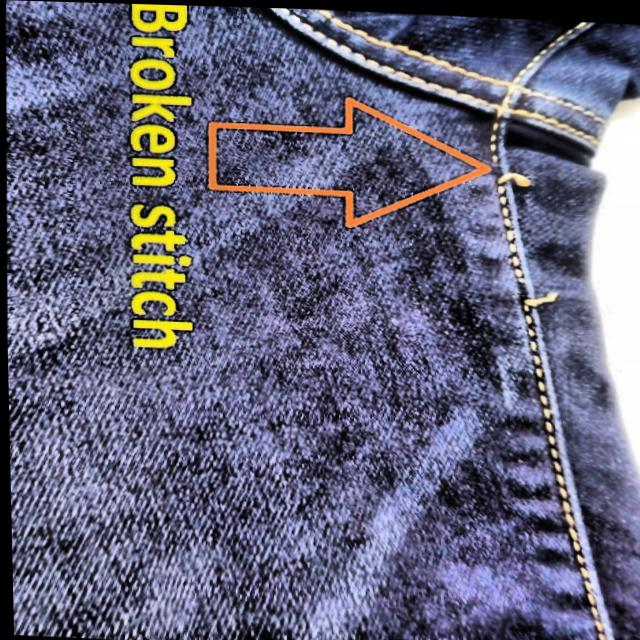Stitch: (480, 162, 572, 350)
